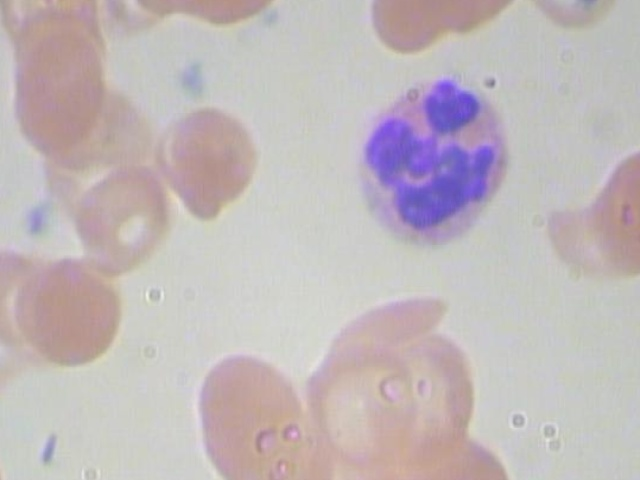Platelets: (171, 58, 214, 101), (13, 199, 54, 242), (577, 0, 601, 7)
RBC: (299, 329, 422, 475), (191, 346, 320, 480), (64, 156, 176, 280), (2, 29, 114, 153), (159, 99, 265, 228), (20, 247, 123, 366), (578, 137, 640, 274), (359, 0, 455, 58), (165, 0, 290, 31), (517, 0, 627, 32)
WBC: (332, 67, 537, 263)
